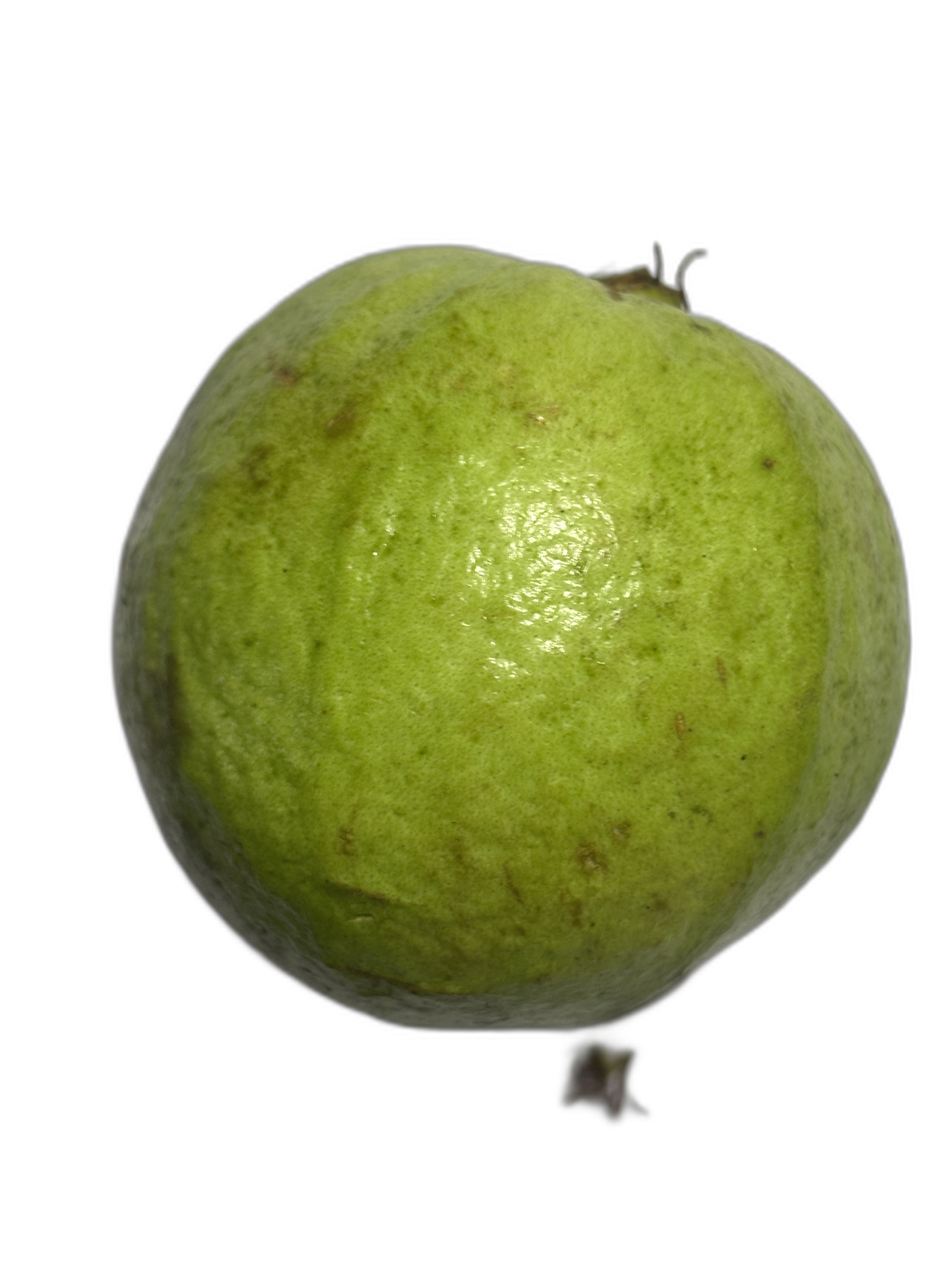guava: (7, 343, 758, 1107)
